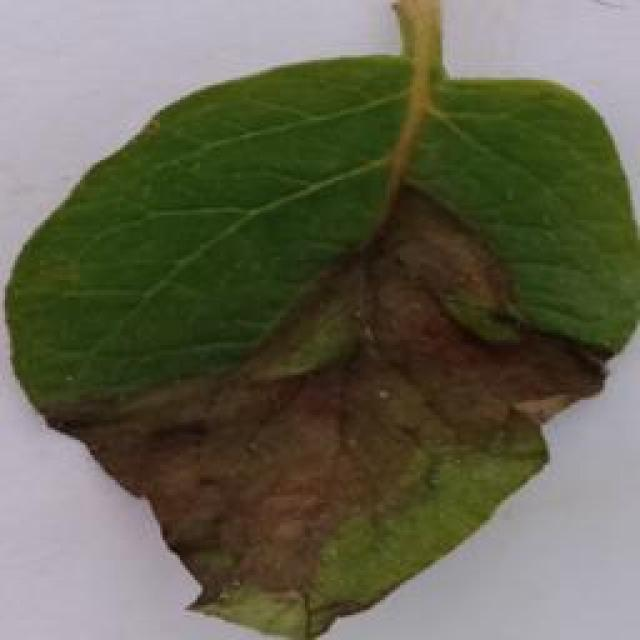Potato_Late_Blight: (5, 15, 627, 640)
